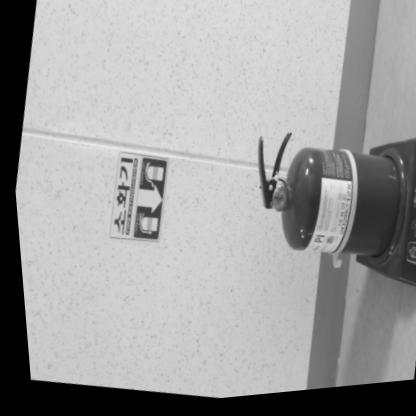FE: (229, 109, 416, 309)
